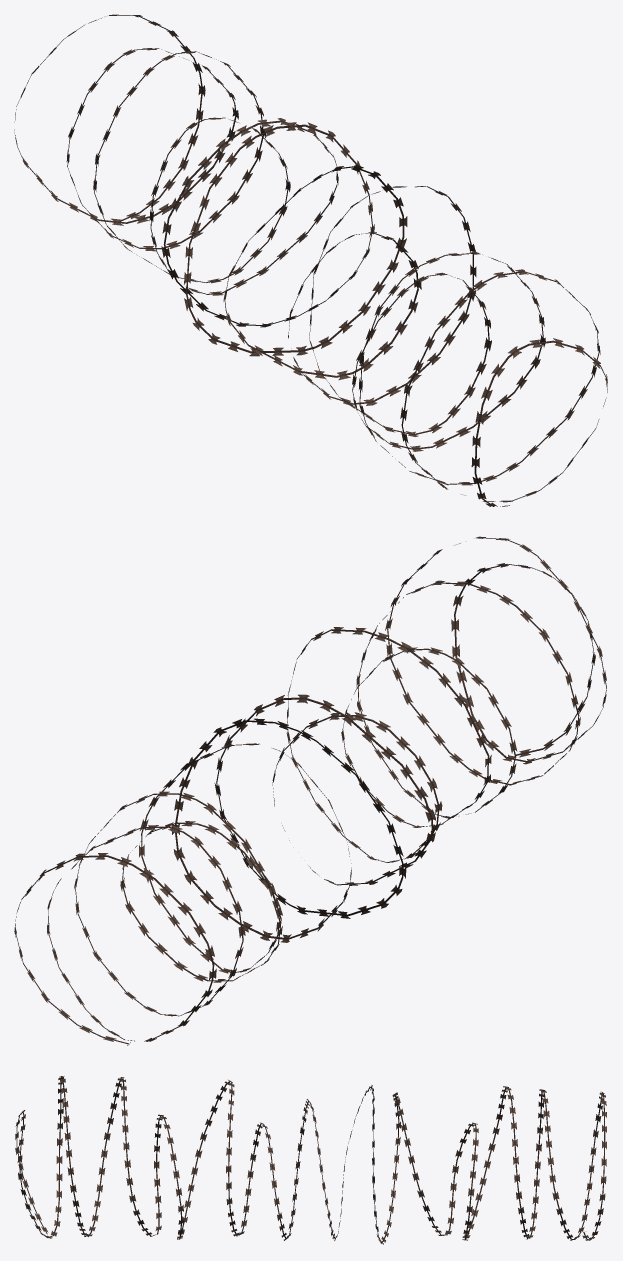
The model's file is egoza.FBX.
3 renders of one model, top to bottom at view 1: azimuth 30°, elevation 25°; view 2: azimuth 150°, elevation 25°; view 3: azimuth 270°, elevation 25°, orthographic. The views are drawn at different scales.
Parts seen in each view (by area): view 1: egoza2m; view 2: egoza2m; view 3: egoza2m.
Boxes of the visible parts, box(x1,y1,x2,y2) form: egoza2m: box(14, 14, 607, 506); egoza2m: box(14, 536, 606, 1045); egoza2m: box(15, 1076, 606, 1244).
Size of the model in its own units: 0.5911 by 0.5892 by 2.
